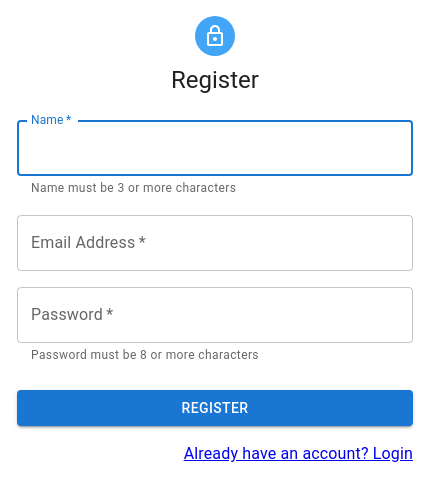
Test: Register › email validation › should show error for invalid email format
The width and height of the screenshot is (431, 502).
Type "invalid-email" into the field labelled "Email Address *" at (215, 243), box x1=17 y1=215 x2=413 y2=271
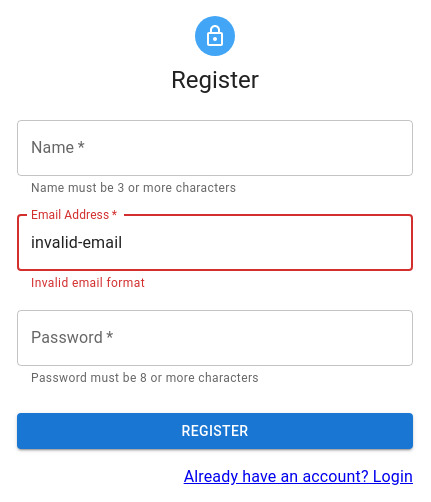
Expected: the text "Invalid email format" is shown, x1=31 y1=276 x2=145 y2=290
